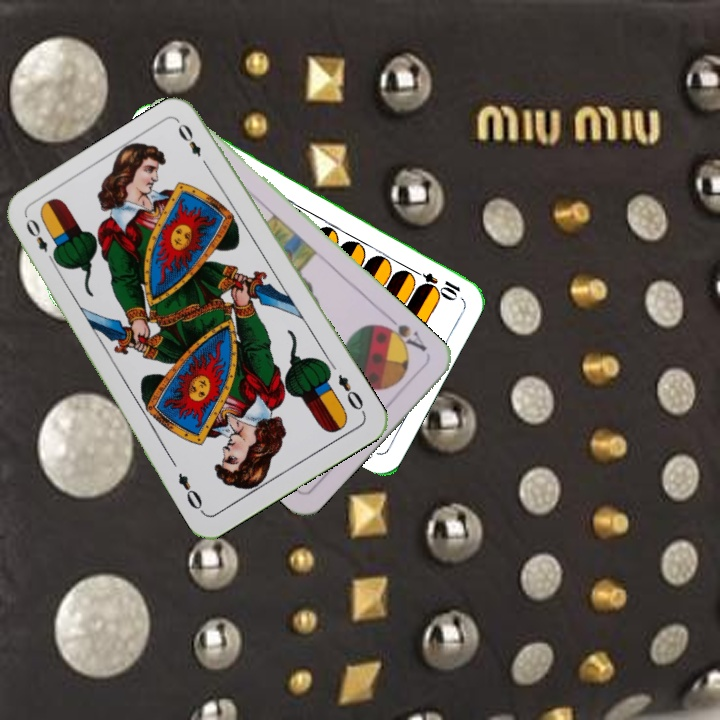E10: (406, 264, 463, 301)
EO: (21, 214, 59, 267), (334, 370, 368, 417)
SA: (376, 312, 430, 355)
